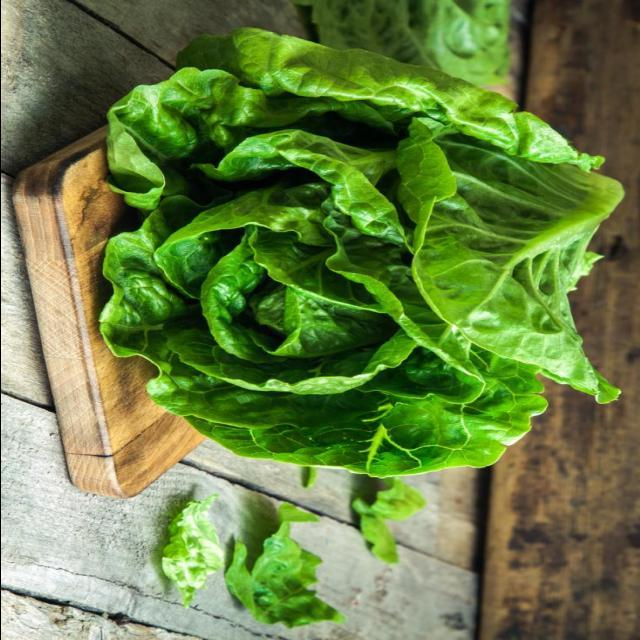Lettuce: (103, 21, 627, 481)
